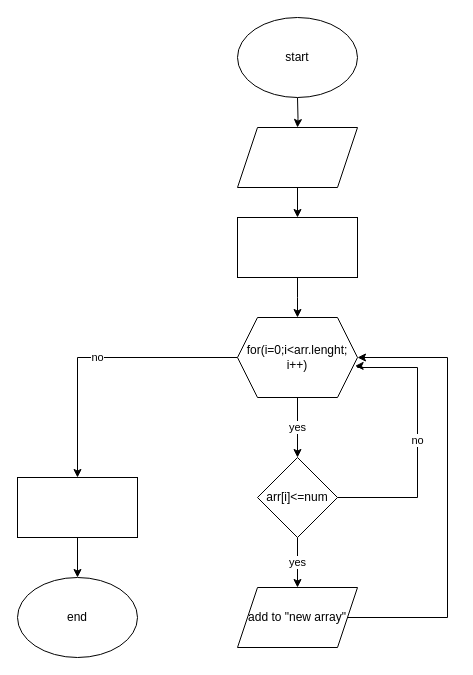
Some shapes in this 473 by 675 pixel diagram are drawn without their labels. The shapes that lost their labels are listed below. From the top down, each one's centre as x and y in pixels, then its label:
point (297, 157): str, num
point (297, 247): srting to array
point (77, 507): print "new array"
